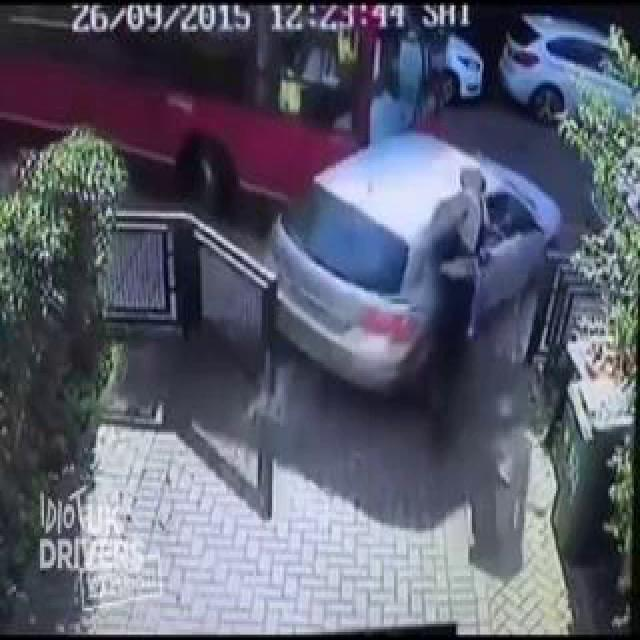road accidents: (198, 36, 548, 543)
